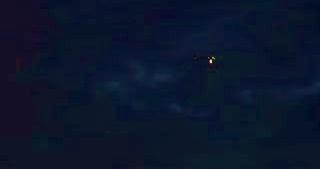Plane: (197, 52, 226, 67)
